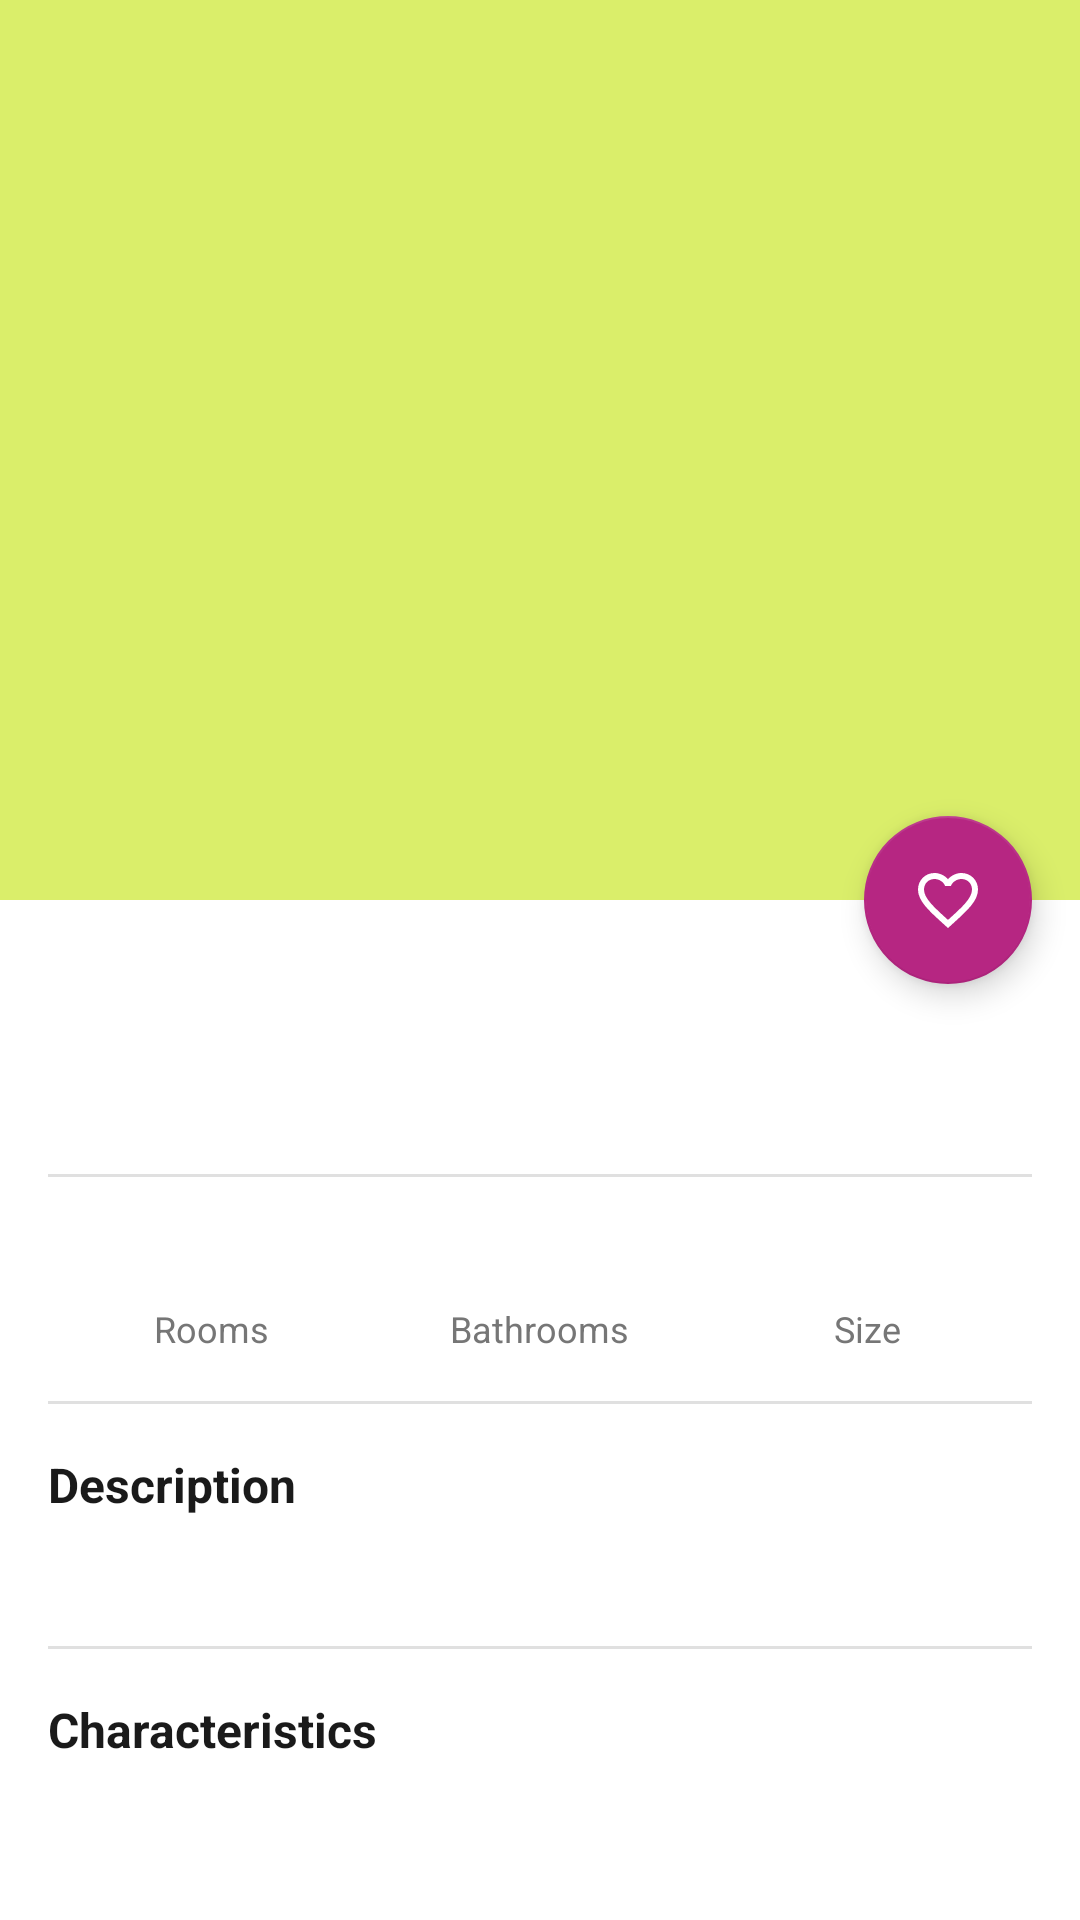

Named icons in this screenshot (1080x1920) and their centers, point (x, y):
favorite border: point (948, 900)
